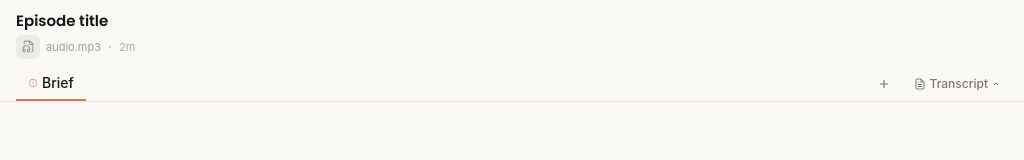
Scenario: EpisodeHeaderBar Tab lifecycle › shows a close affordance for a completed Pipeline-created Tab
Hover over the element showing "Brief" at (51, 84), box [16,67,86,101]
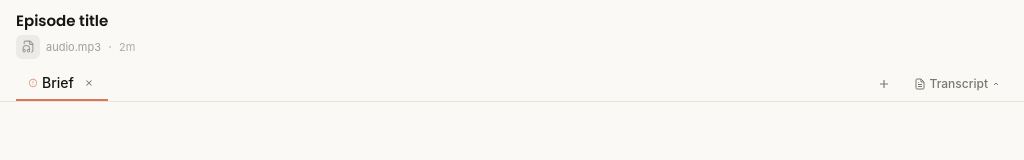
Now the button named "Close Brief" is shown, box [82,76,96,90]
